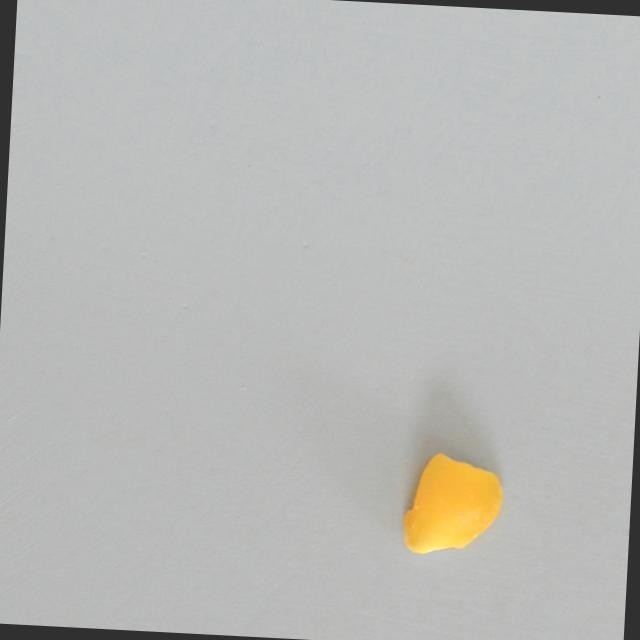estandar: (401, 451, 504, 559)
